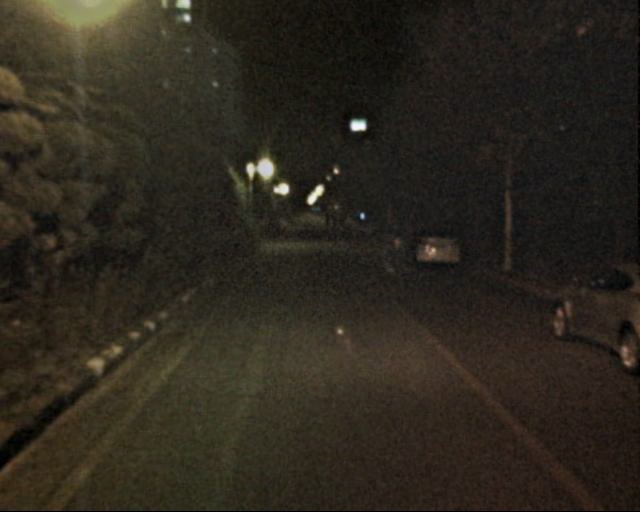person: (379, 223, 400, 275), (399, 224, 420, 275), (325, 216, 343, 238), (277, 214, 289, 244)
